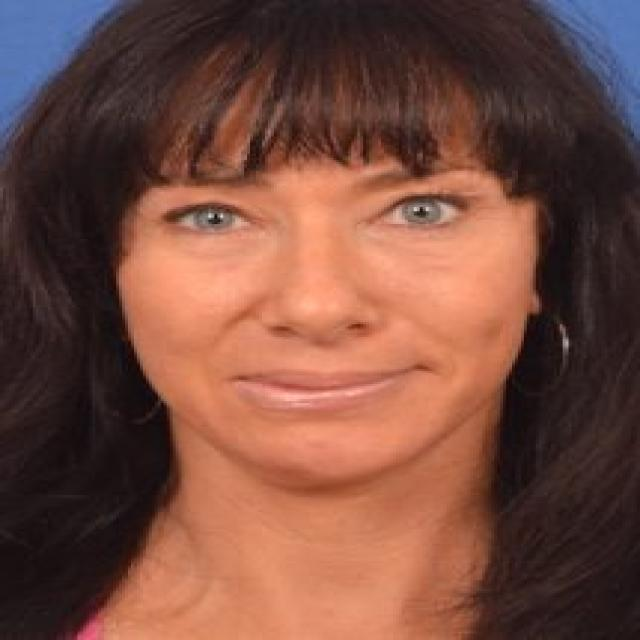stroke_face: (109, 62, 552, 480)
